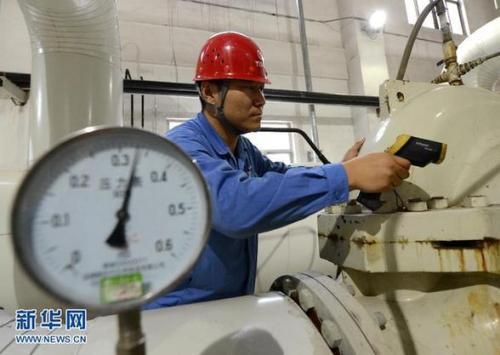helmet: (188, 25, 278, 137)
